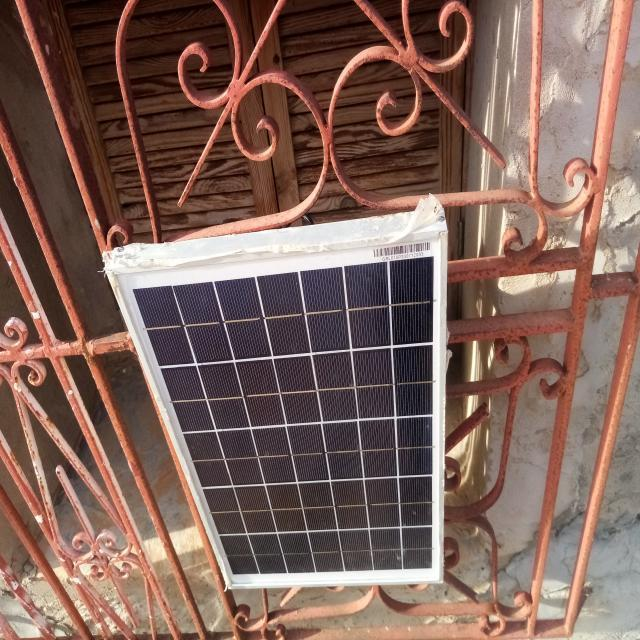Normal Solar Panel: (112, 232, 445, 587)
